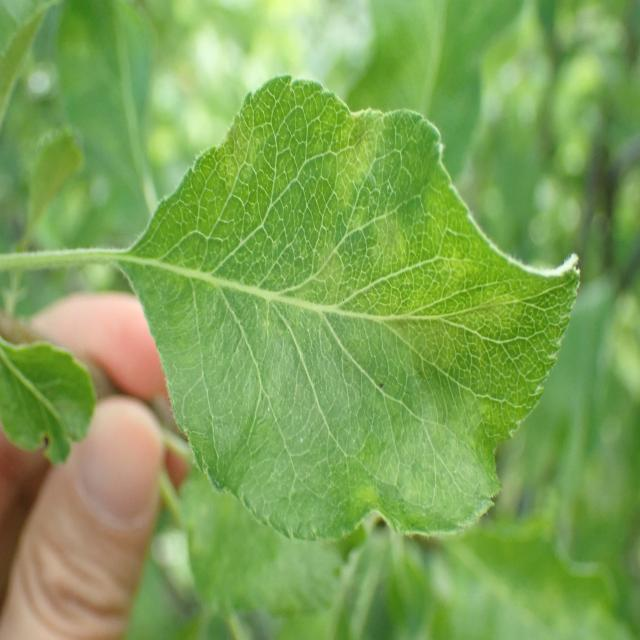scab: (165, 83, 525, 516)
